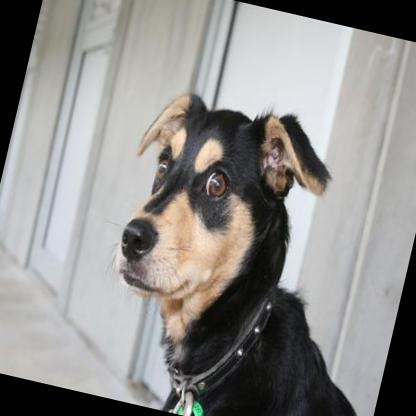kelpie: (82, 81, 416, 416)
